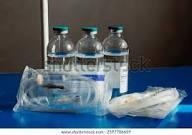Iv_Bottle: (76, 26, 104, 114), (103, 25, 128, 96), (45, 25, 74, 71)
